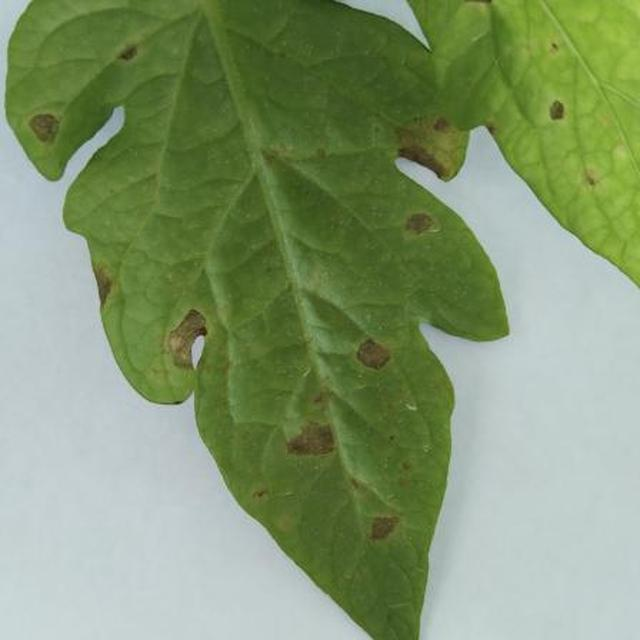Early Blight Leaf: (46, 137, 640, 640)
